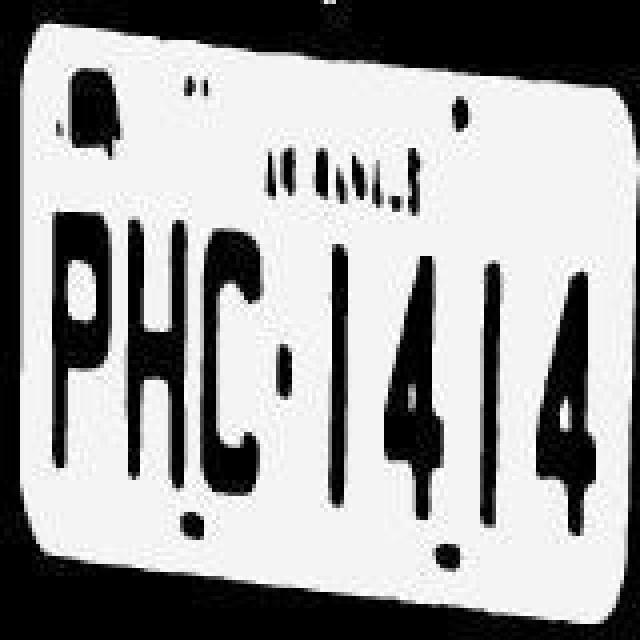1: (466, 258, 510, 542), (320, 230, 360, 514)
4: (528, 268, 608, 548), (382, 252, 450, 524)
C: (194, 222, 270, 506)
H: (112, 206, 192, 498)
P: (36, 204, 116, 500)
